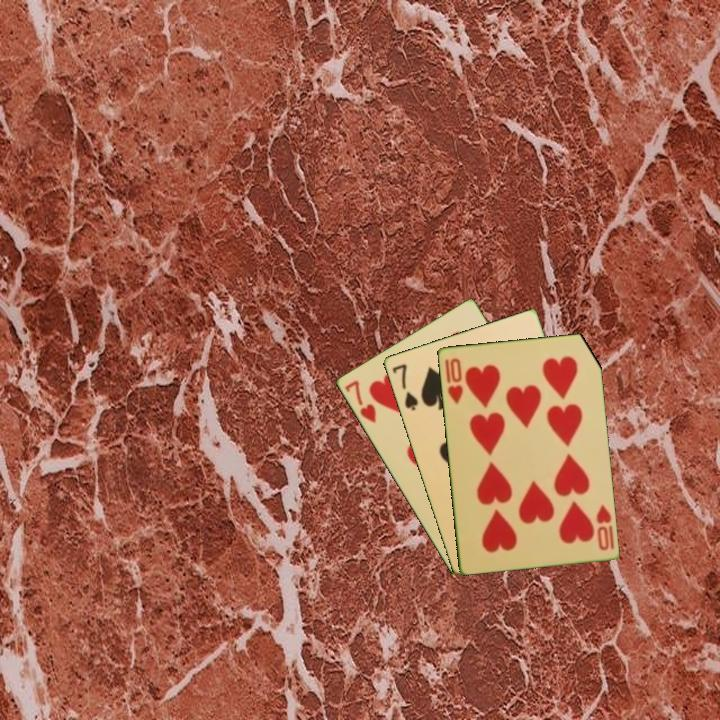10h: (592, 501, 616, 553), (444, 354, 466, 407)
7h: (341, 377, 379, 426)
7s: (388, 360, 421, 413)
